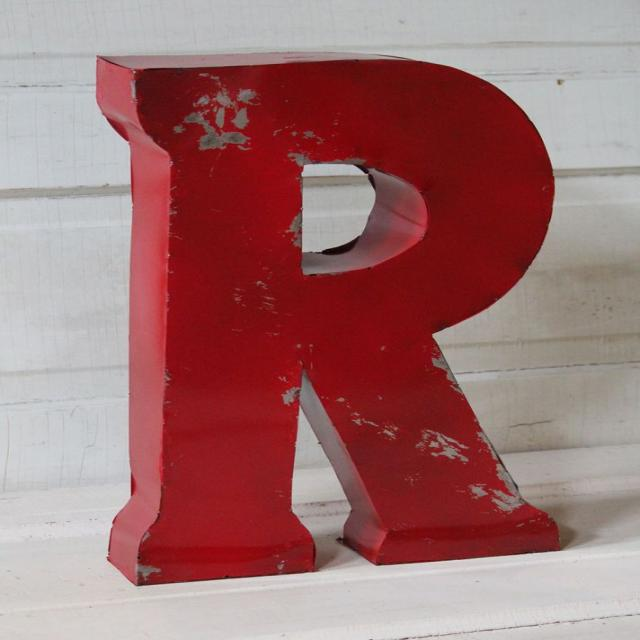R: (80, 27, 592, 595)
